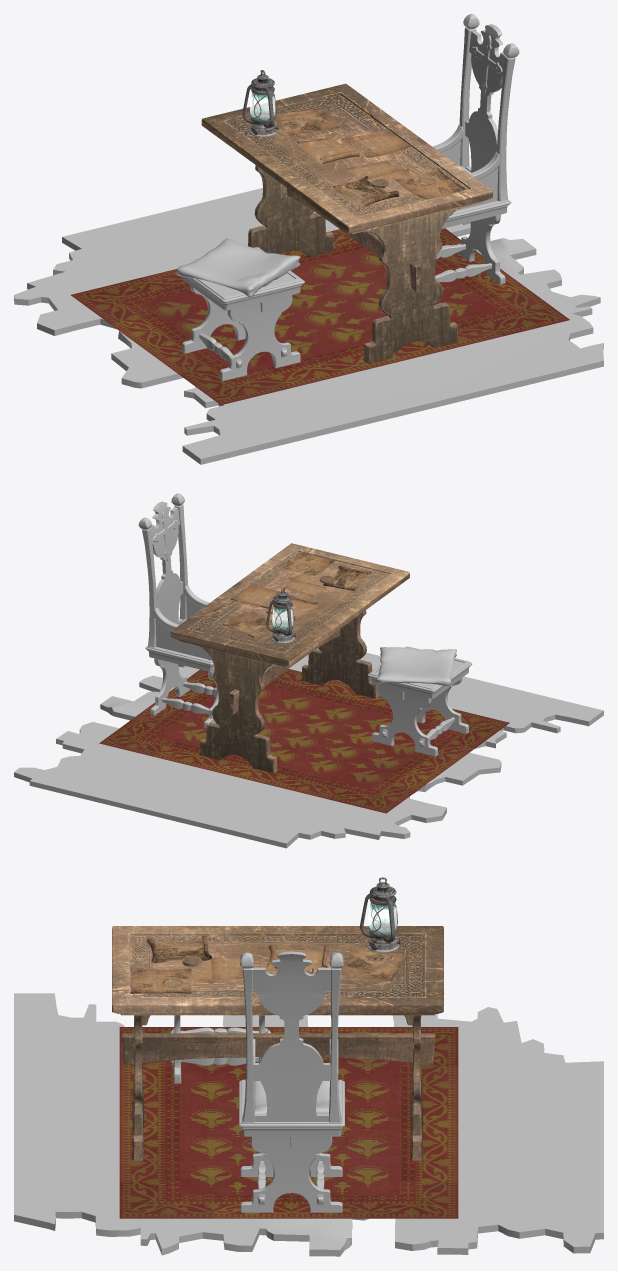
3 renders of one model, top to bottom at view 1: azimuth 30°, elevation 25°; view 2: azimuth 150°, elevation 25°; view 3: azimuth 270°, elevation 25°, orthographic. The views are drawn at different scales.
Parts seen in each view (by area): view 1: Box009, Plane002, Object006_Object006_mtl_0, Object008_Object008_mtl_0, Line046, lantern, Line047, Line048, Line054, Line045; view 2: Box009, Plane002, Object006_Object006_mtl_0, Object008_Object008_mtl_0, lantern, Line046, Line047, Line048, Line045, Line054; view 3: Box009, Plane002, Object006_Object006_mtl_0, Object008_Object008_mtl_0, lantern, Line046, Line047, Line048, Line045.
Part boxes in pixels (left/top/right/bottom): Box009: left=14, top=188, right=603, bottom=464; Plane002: left=71, top=228, right=569, bottom=404; Object006_Object006_mtl_0: left=201, top=83, right=492, bottom=363; Object008_Object008_mtl_0: left=176, top=14, right=519, bottom=380; Line046: left=297, top=134, right=409, bottom=180; lantern: left=242, top=70, right=278, bottom=136; Line047: left=395, top=168, right=464, bottom=199; Line048: left=276, top=107, right=340, bottom=133; Line054: left=341, top=128, right=413, bottom=157; Line045: left=333, top=176, right=399, bottom=206; Box009: left=14, top=648, right=603, bottom=848; Plane002: left=99, top=669, right=509, bottom=813; Object006_Object006_mtl_0: left=170, top=543, right=409, bottom=772; Object008_Object008_mtl_0: left=138, top=493, right=472, bottom=756; lantern: left=266, top=588, right=295, bottom=643; Line046: left=266, top=574, right=326, bottom=620; Line047: left=278, top=551, right=335, bottom=575; Line048: left=223, top=610, right=273, bottom=638; Line045: left=323, top=565, right=371, bottom=590; Line054: left=230, top=582, right=288, bottom=608; Box009: left=14, top=993, right=603, bottom=1256; Plane002: left=119, top=1027, right=458, bottom=1218; Object006_Object006_mtl_0: left=112, top=926, right=443, bottom=1160; Object008_Object008_mtl_0: left=170, top=951, right=344, bottom=1212; lantern: left=360, top=877, right=400, bottom=952; Line046: left=191, top=944, right=328, bottom=983; Line047: left=130, top=966, right=191, bottom=993; Line048: left=341, top=949, right=408, bottom=981; Line045: left=147, top=935, right=211, bottom=963.
Size of the model in its own units: 2.35 by 1.18 by 2.28.
